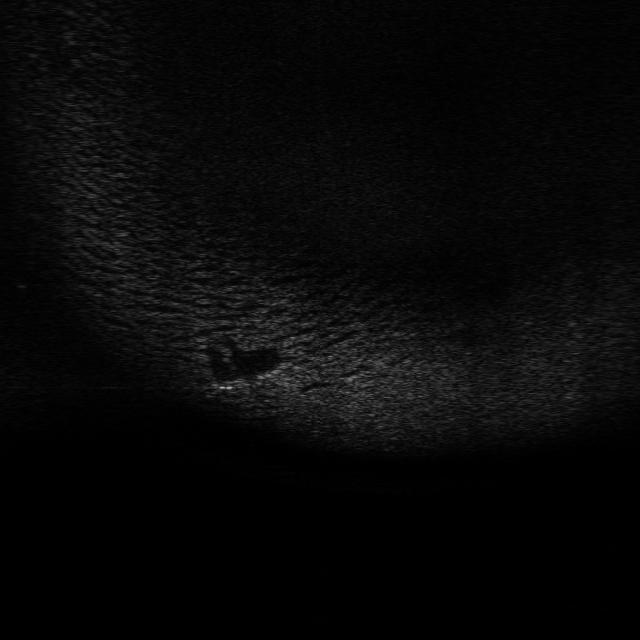plane: (192, 359, 290, 404)
